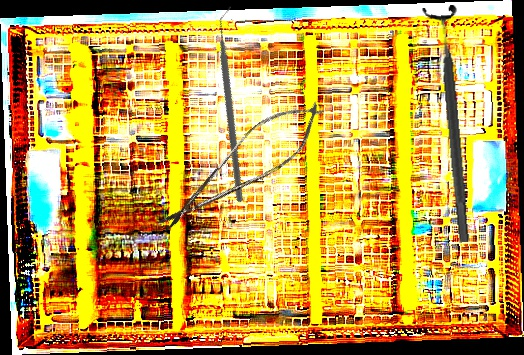Chopper: (139, 5, 331, 204)
Fixation Ring: (420, 4, 483, 245)
Micro Scissor: (145, 85, 338, 250)
